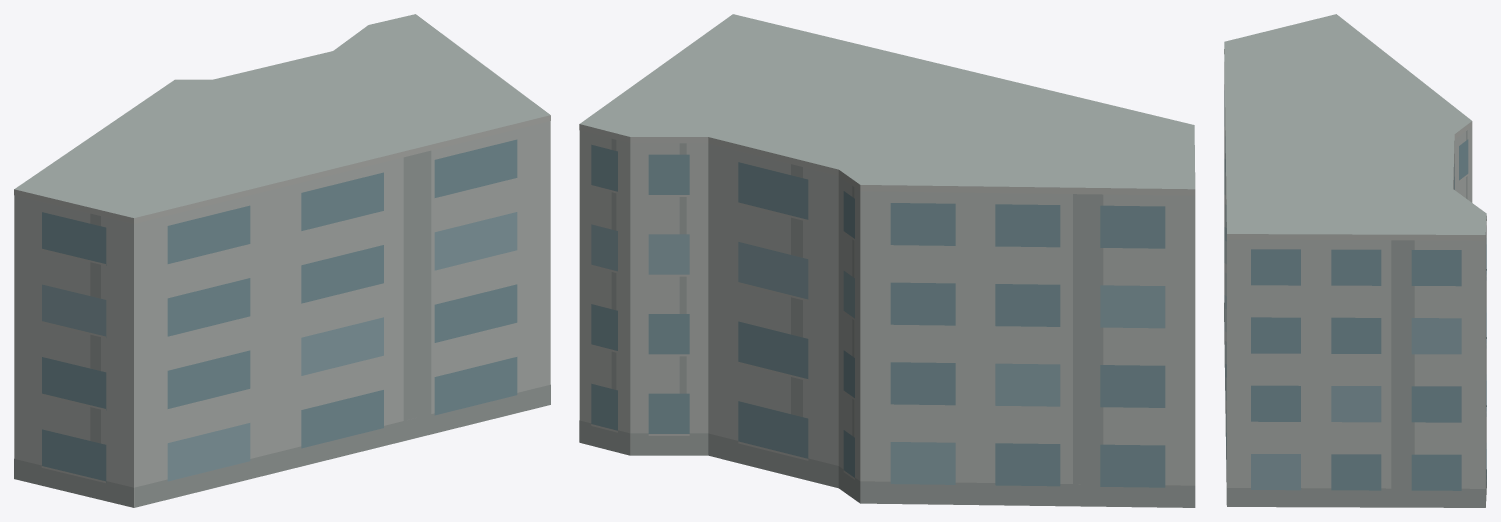
File: residential-c2295a53-faff-4b31-9c54-fc780ba641ce.glb
3 renders of one model, left to right at view 1: azimuth 30°, elevation 25°; view 2: azimuth 150°, elevation 25°; view 3: azimuth 270°, elevation 25°, orthographic. The views are drawn at different scales.
Visible parts, largest first — view 1: residential-c2295a53-faff-4b31-9c54-fc780ba641ce.tmp; view 2: residential-c2295a53-faff-4b31-9c54-fc780ba641ce.tmp; view 3: residential-c2295a53-faff-4b31-9c54-fc780ba641ce.tmp.
Part boxes in pixels (box(x1,y1,x2,y2)): residential-c2295a53-faff-4b31-9c54-fc780ba641ce.tmp: box(14, 14, 550, 507); residential-c2295a53-faff-4b31-9c54-fc780ba641ce.tmp: box(579, 14, 1195, 507); residential-c2295a53-faff-4b31-9c54-fc780ba641ce.tmp: box(1224, 14, 1486, 507).
Bounding box in the file's own units: 20.85 × 12 × 10.48.
